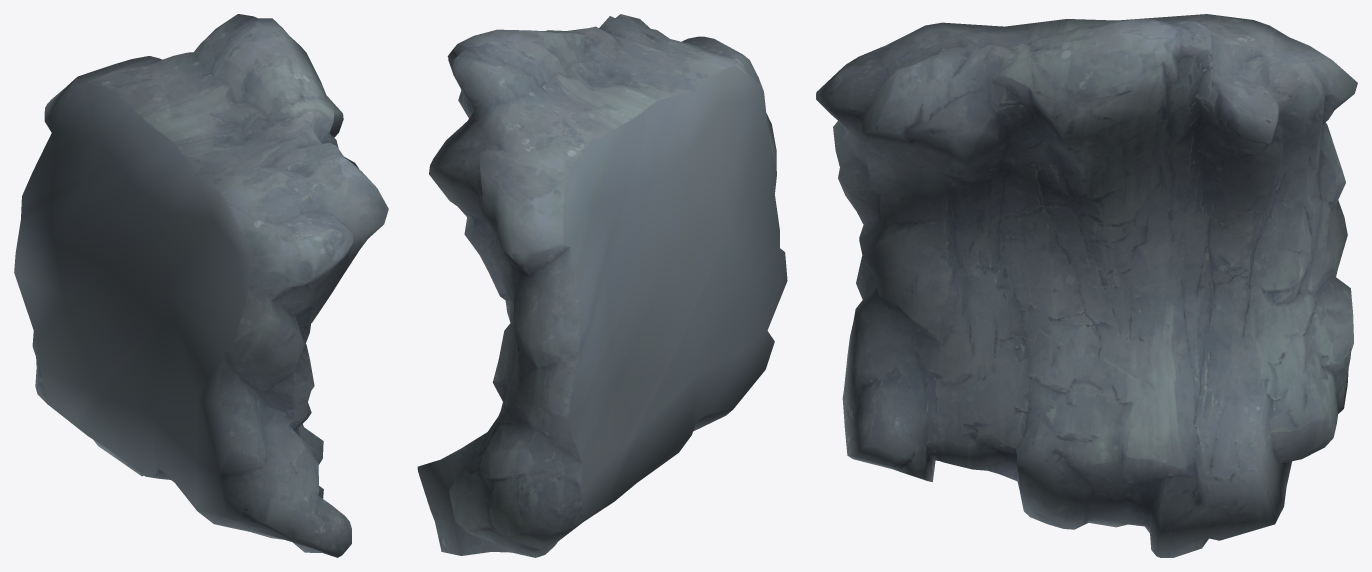
The model's file is Area_Cyjy_Stone_DOWN_Cliff_Yj_M_01.fbx.
The picture shows the model from 3 angles, left to right: view 1: azimuth 30°, elevation 25°; view 2: azimuth 150°, elevation 25°; view 3: azimuth 270°, elevation 25°; orthographic projection. The views are drawn at different scales.
Visible parts, largest first — view 1: Area_Cyjy_Stone_DOWN_Cliff_Yj_M_01_Lod0; view 2: Area_Cyjy_Stone_DOWN_Cliff_Yj_M_01_Lod0; view 3: Area_Cyjy_Stone_DOWN_Cliff_Yj_M_01_Lod0.
Boxes of the visible parts, bbox=[...] form: Area_Cyjy_Stone_DOWN_Cliff_Yj_M_01_Lod0: bbox=[14, 14, 388, 557]; Area_Cyjy_Stone_DOWN_Cliff_Yj_M_01_Lod0: bbox=[417, 14, 787, 557]; Area_Cyjy_Stone_DOWN_Cliff_Yj_M_01_Lod0: bbox=[816, 14, 1357, 557].
Size of the model in its own units: 22.98 by 51.38 by 47.15.
Materials: 1 (1 with a texture image).
